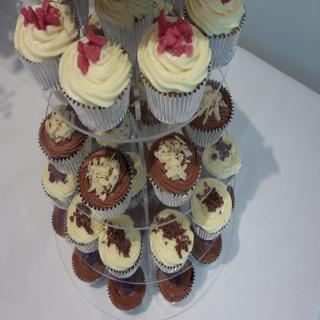Cake: (132, 5, 215, 123), (55, 32, 134, 134), (10, 0, 81, 95), (73, 140, 135, 222), (182, 0, 249, 71), (144, 131, 203, 207), (38, 101, 92, 178), (90, 0, 156, 62), (184, 78, 235, 154), (144, 208, 198, 275), (96, 210, 143, 278), (190, 174, 235, 238), (64, 191, 105, 257), (200, 130, 243, 188), (104, 270, 149, 316), (40, 156, 78, 210), (156, 262, 194, 305), (72, 243, 105, 287), (188, 233, 222, 266), (50, 203, 66, 239)
Muffin: (135, 17, 214, 128), (56, 31, 132, 127), (10, 0, 81, 98), (75, 144, 133, 221), (183, 0, 246, 70), (145, 130, 202, 207), (37, 103, 93, 175), (183, 76, 233, 149), (146, 206, 195, 274), (93, 0, 157, 52), (96, 212, 144, 279), (187, 175, 232, 242), (63, 191, 107, 253), (200, 133, 240, 188), (154, 258, 195, 306), (39, 162, 79, 211), (106, 266, 146, 314), (121, 148, 145, 212), (92, 110, 131, 149), (70, 244, 106, 286), (140, 100, 171, 144), (34, 0, 87, 25), (191, 232, 221, 266), (81, 10, 105, 36), (125, 204, 145, 235), (51, 203, 65, 240), (153, 0, 177, 17), (226, 183, 237, 212), (144, 136, 162, 150)
